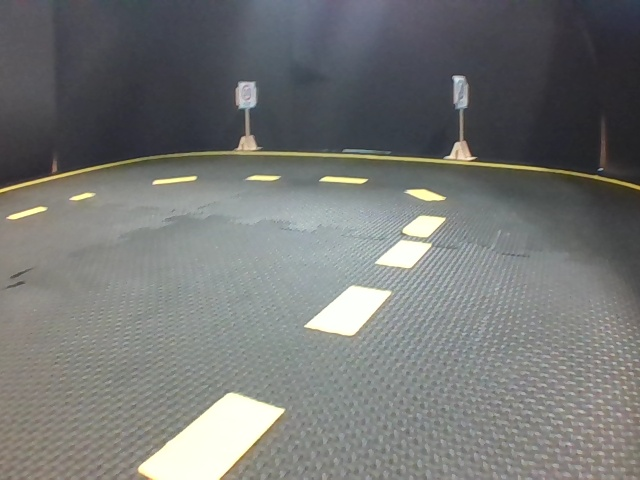30: (238, 82, 254, 107)
no30: (455, 76, 466, 105)
